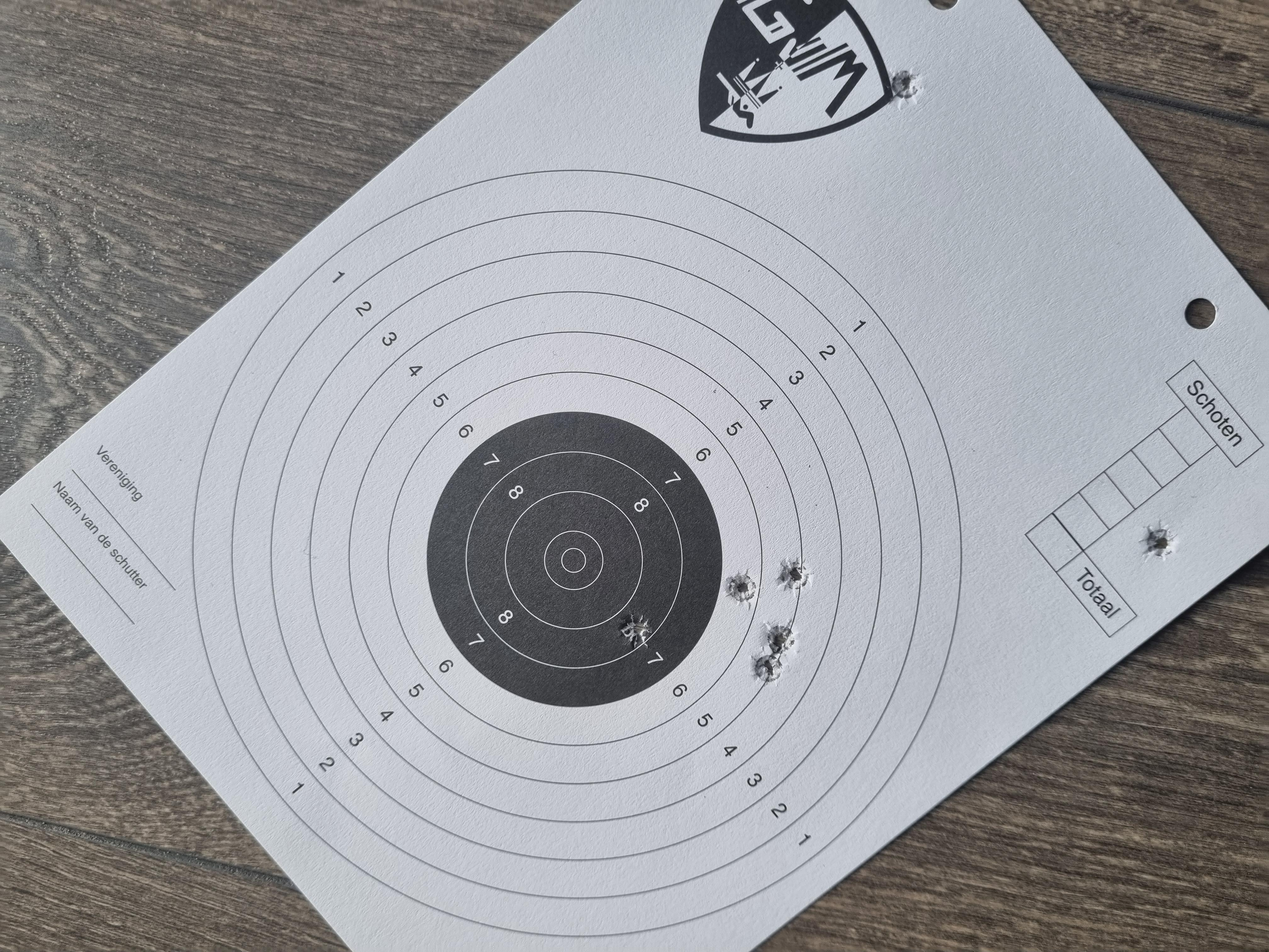hole: (521, 855, 574, 882), (1125, 666, 1177, 693), (397, 572, 442, 598), (463, 543, 509, 567), (479, 583, 521, 607), (360, 562, 398, 588), (408, 463, 447, 487)
